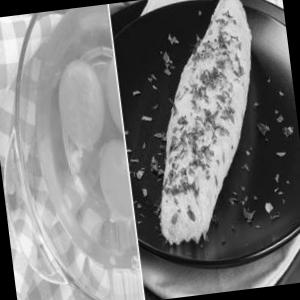omelet: (135, 0, 293, 263)
